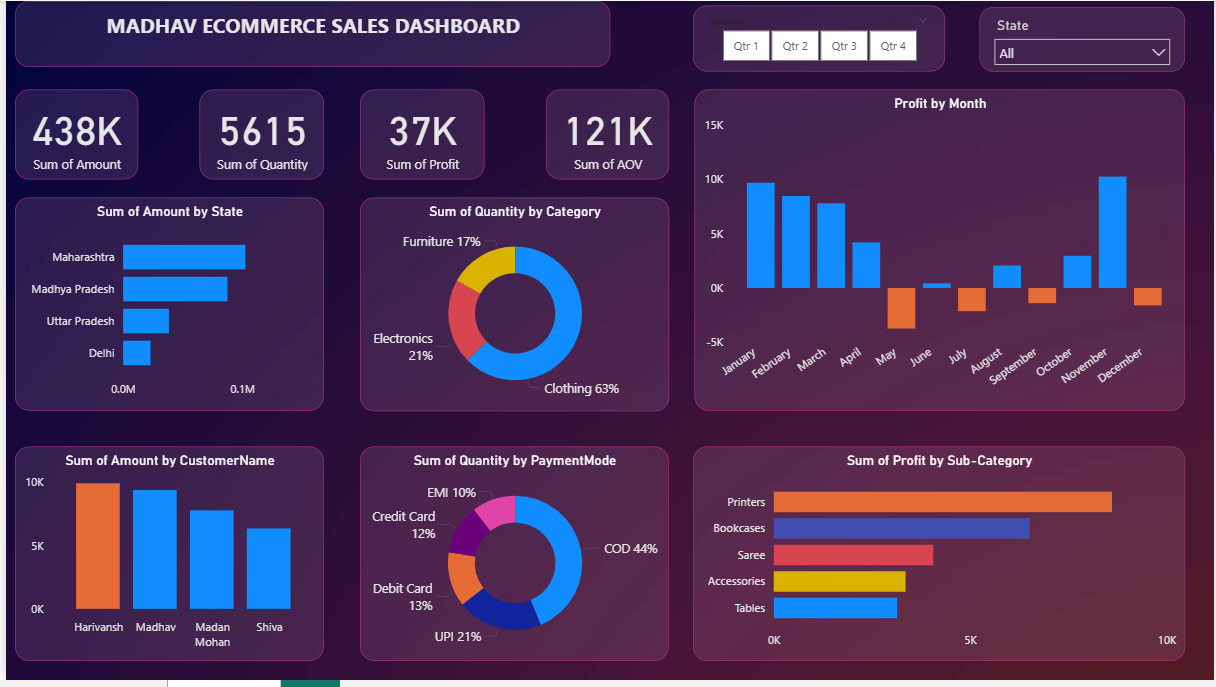

The dashboard page shown, as its layout file describes it:
{"tool":"powerbi","page":{"name":"Page 1","canvas":[1280,720],"ordinal":0},"visuals":[{"type":"textbox","box":[9.4,0,631.2,69.9],"z":0},{"type":"columnChart","title":"Profit by Month","fields":{"Category":["Orders (1).Order Date.Variation.Date Hierarchy.Month"],"Y":["Sum(Details (1).Profit)"]},"box":[730.1,93.8,520.1,340.4],"z":1000},{"type":"barChart","fields":{"Category":["Details (1).Sub-Category"],"Y":["Sum(Details (1).Profit)"]},"box":[728.5,472.4,521.7,227.5],"z":2000},{"type":"donutChart","fields":{"Category":["Details (1).Category"],"Y":["Sum(Details (1).Quantity)"]},"box":[375.5,208,327.7,226.4],"z":3000},{"type":"slicer","fields":{"Values":["Orders (1).Order Date.Variation.Date Hierarchy.Quarter"]},"box":[728.5,4.8,267.2,70],"z":4000},{"type":"card","fields":{"Values":["Sum(Details (1).Amount)"]},"box":[9.5,93.8,130.4,95.4],"z":5000},{"type":"card","fields":{"Values":["Sum(Details (1).Quantity)"]},"box":[205.2,93.8,132,95.4],"z":6000},{"type":"card","fields":{"Values":["Sum(Details (1).Profit)"]},"box":[375.4,93.8,132,95.4],"z":7000},{"type":"card","fields":{"Values":["Sum(Details (1).AOV)"]},"box":[572.6,93.8,130.4,95.4],"z":8000},{"type":"barChart","fields":{"Category":["Orders (1).State"],"Y":["Sum(Details (1).Amount)"]},"box":[9.5,208.4,327.7,225.9],"z":9000},{"type":"columnChart","fields":{"Category":["Orders (1).CustomerName"],"Y":["Sum(Details (1).Amount)"]},"box":[9.5,472.4,327.7,227.5],"z":10000},{"type":"slicer","fields":{"Values":["Orders (1).State"]},"box":[1032.3,6.4,217.9,68.4],"z":11000},{"type":"donutChart","fields":{"Category":["Details (1).PaymentMode"],"Y":["Sum(Details (1).Quantity)"]},"box":[375.4,472.4,327.7,227.5],"z":12000}]}

Visuals, with their boxes in screenshot pixels (x1, y1, x2, y2), scaled from the page's 1280x720 canvas onto the 1216x687 screenshot:
textbox: (9,0,609,67)
"Profit by Month" columnChart: (694,90,1188,414)
barChart - Details (1).Sub-Category x Sum(Details (1).Profit): (692,451,1188,668)
donutChart - Details (1).Category x Sum(Details (1).Quantity): (357,198,668,414)
slicer - Orders (1).Order Date.Variation.Date Hierarchy.Quarter: (692,5,946,71)
card - Sum(Details (1).Amount): (9,90,133,181)
card - Sum(Details (1).Quantity): (195,90,320,181)
card - Sum(Details (1).Profit): (357,90,482,181)
card - Sum(Details (1).AOV): (544,90,668,181)
barChart - Orders (1).State x Sum(Details (1).Amount): (9,199,320,414)
columnChart - Orders (1).CustomerName x Sum(Details (1).Amount): (9,451,320,668)
slicer - Orders (1).State: (981,6,1188,71)
donutChart - Details (1).PaymentMode x Sum(Details (1).Quantity): (357,451,668,668)
